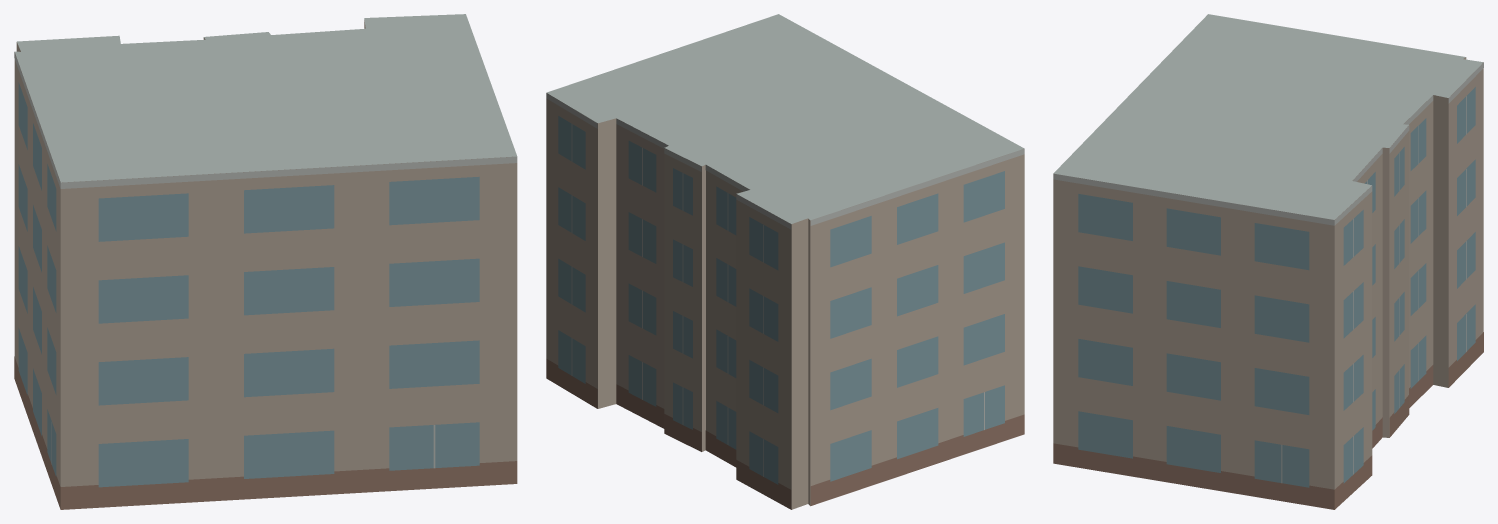
File: survey-upis-32676258.glb
The picture shows the model from 3 angles, left to right: view 1: azimuth 30°, elevation 25°; view 2: azimuth 150°, elevation 25°; view 3: azimuth 270°, elevation 25°; orthographic projection. The views are drawn at different scales.
Parts seen in each view (by area): view 1: survey-upis-32676258.tmp; view 2: survey-upis-32676258.tmp; view 3: survey-upis-32676258.tmp.
Boxes of the visible parts, left/top/right/bottom form: survey-upis-32676258.tmp: left=14, top=14, right=517, bottom=509; survey-upis-32676258.tmp: left=546, top=14, right=1024, bottom=509; survey-upis-32676258.tmp: left=1053, top=14, right=1483, bottom=509.
Size of the model in its own units: 18.6 by 12.2 by 16.43.
